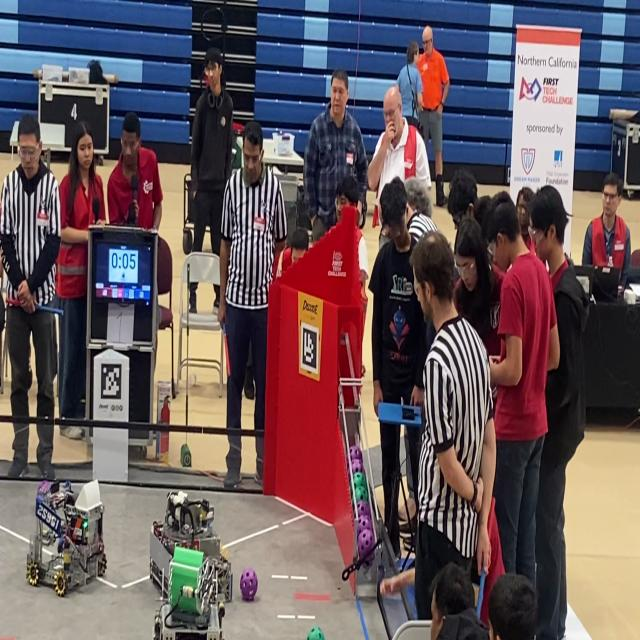artifact_green: (181, 444, 191, 467), (351, 483, 367, 497), (307, 627, 324, 639), (352, 473, 366, 487), (355, 486, 368, 501)
artifact_purple: (240, 568, 257, 601), (358, 530, 375, 561), (357, 501, 371, 519), (358, 515, 372, 533), (351, 459, 364, 475), (350, 446, 362, 462), (38, 481, 50, 495)
